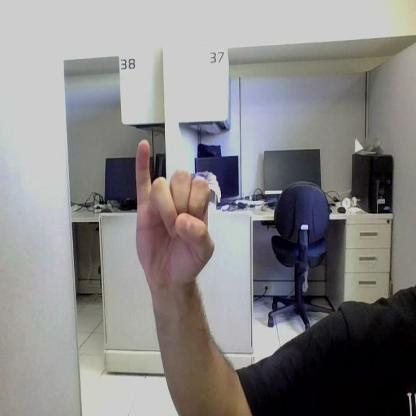I: (136, 140, 214, 281)
